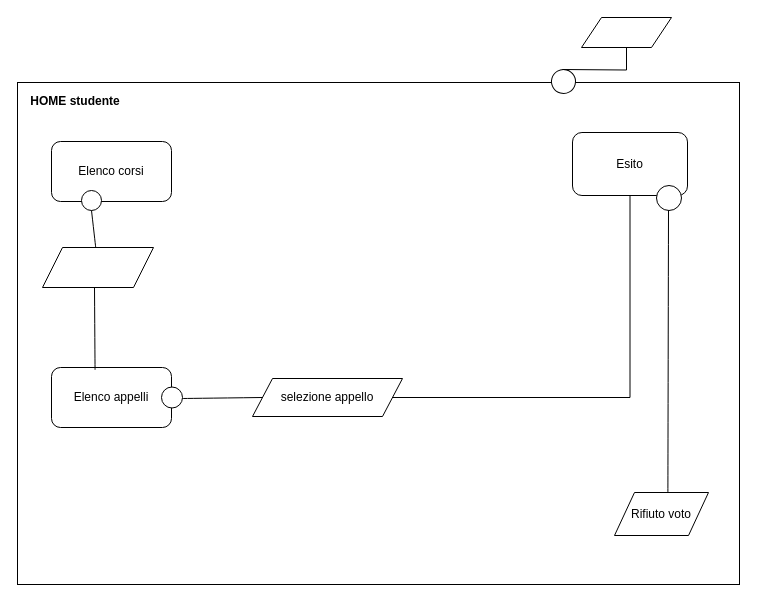
This 757x602 diagram has some shape labels left out. The centre of each missing label's shape, as x and y in pixels:
logout: the point at 626,32
selezione corso: the point at 98,267
